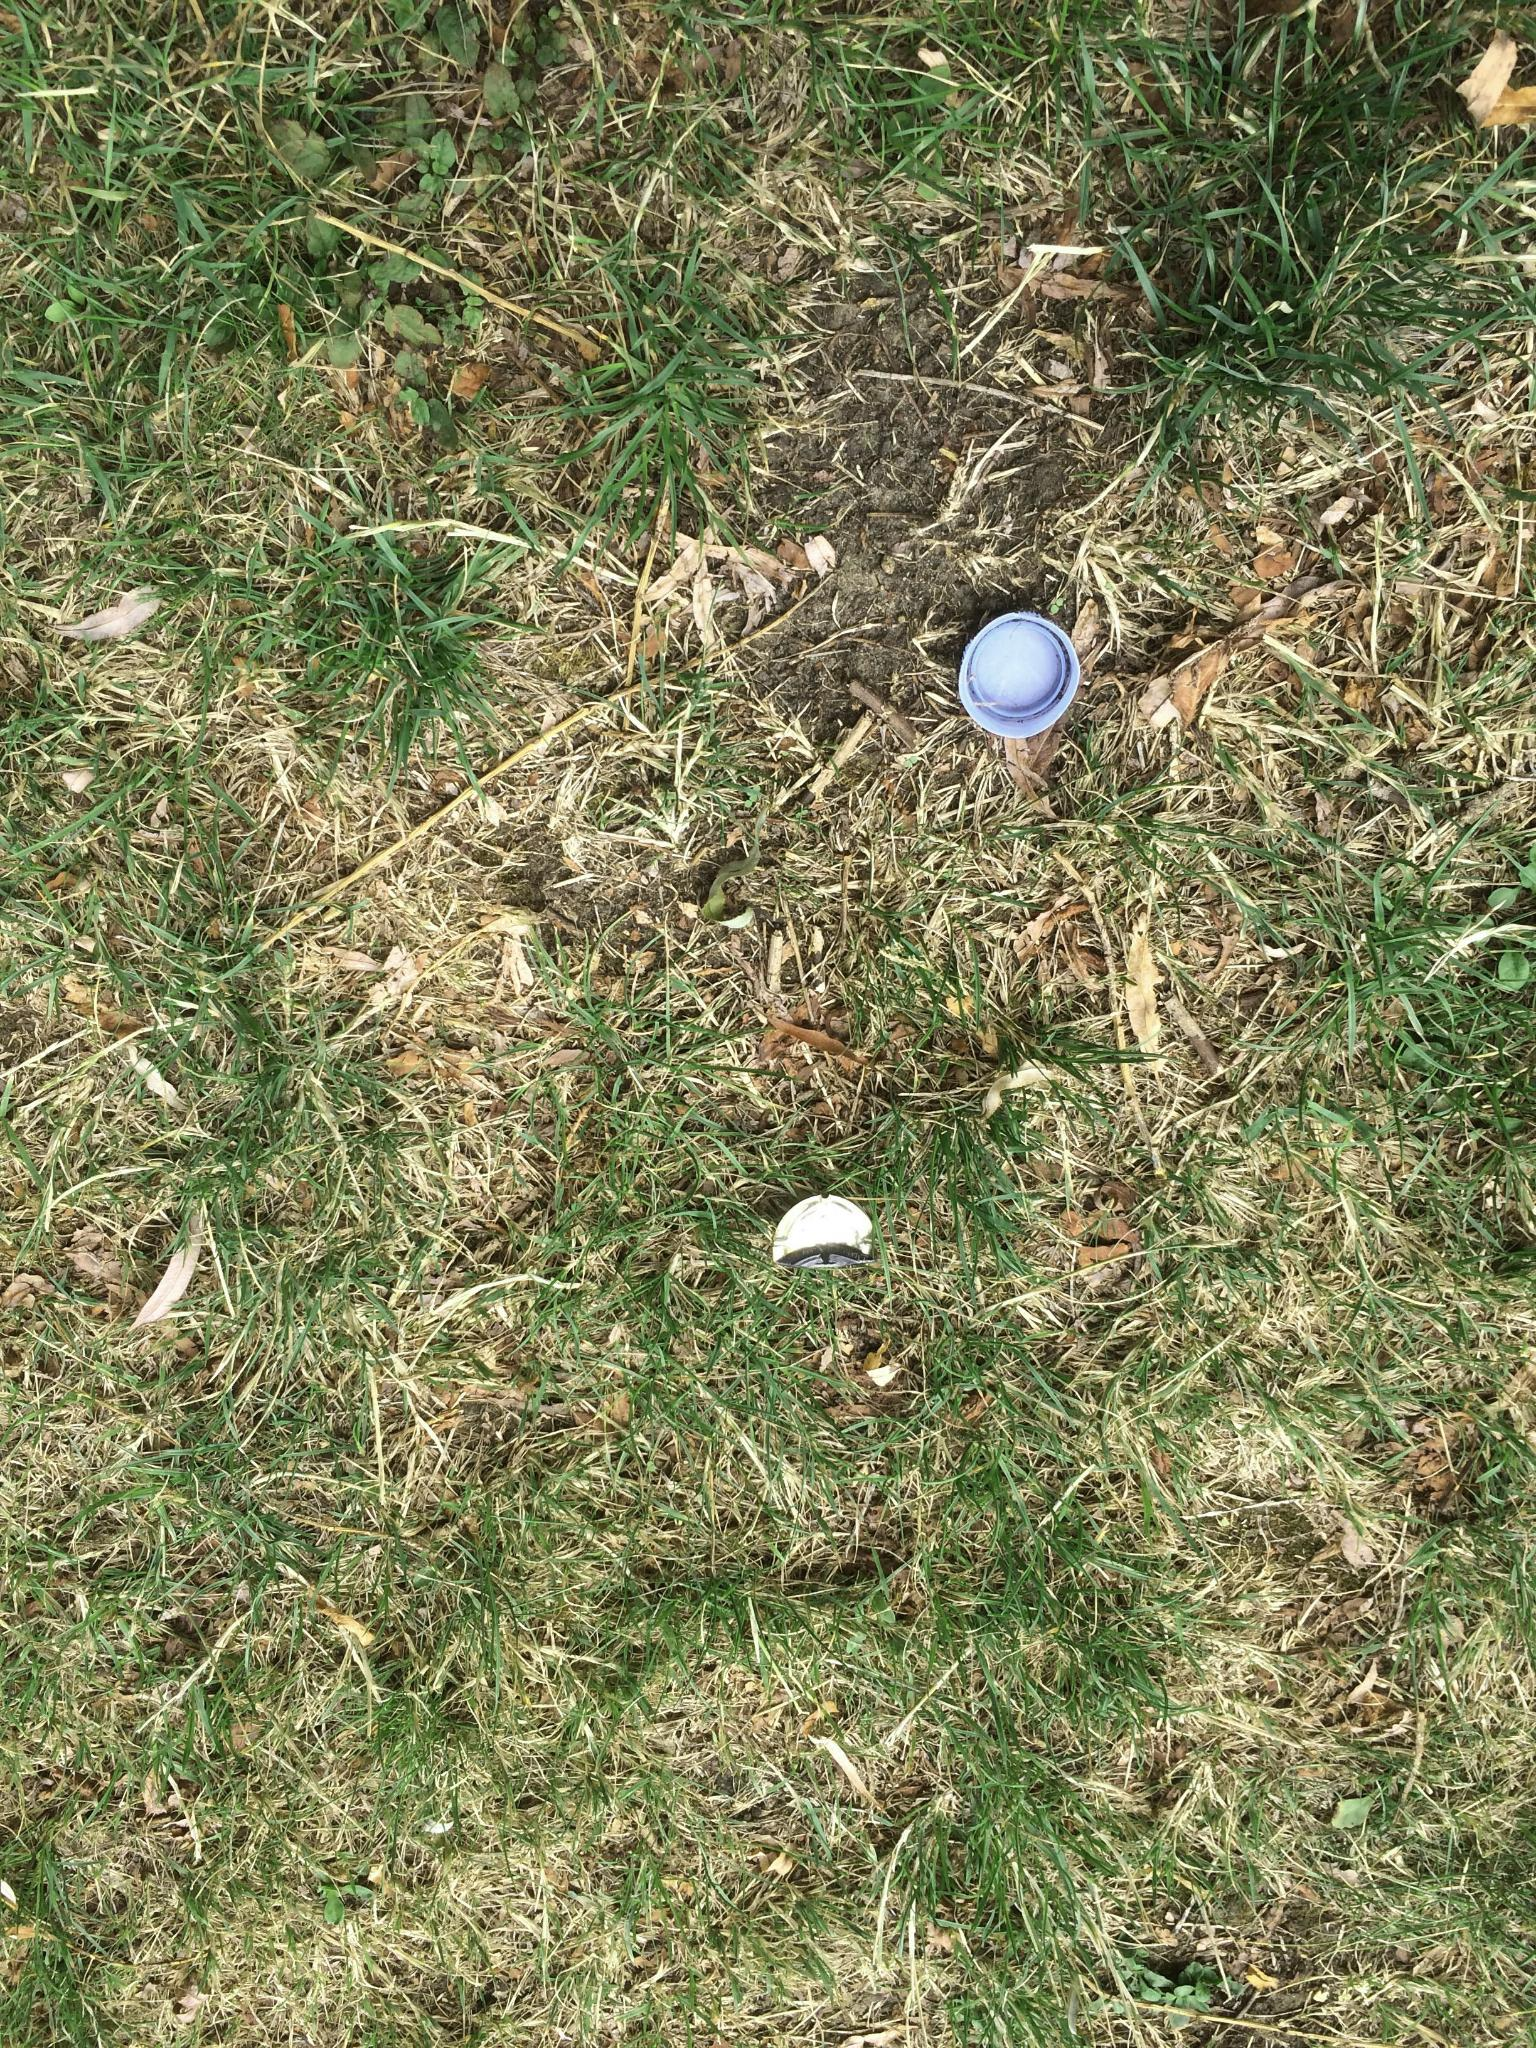Metal: (770, 1188, 881, 1282)
Plastic: (945, 605, 1084, 747)
